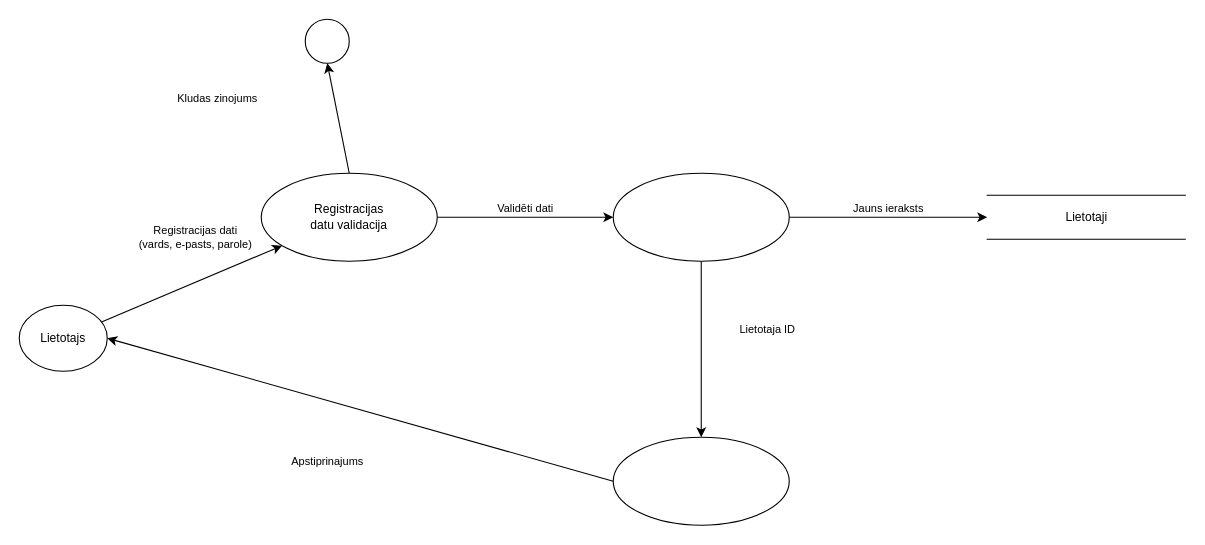
Some shapes in this 1205 by 545 pixel diagram are drawn without their labels. The centre of each missing label's shape, as x and y in pixels:
"Apstiprinajuma zinojums" goes at [700,480].
"Lietotaja ieraksta izveide" goes at [700,216].
